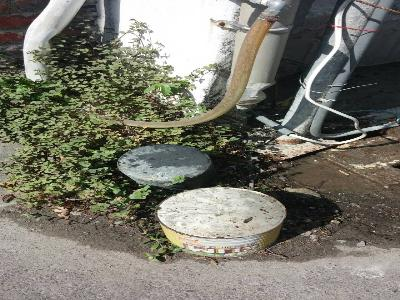bottle: (154, 186, 289, 258), (114, 144, 222, 198)
